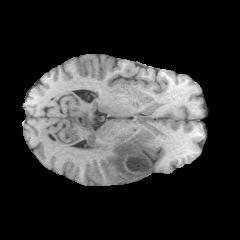glioma: (70, 134, 154, 181)
